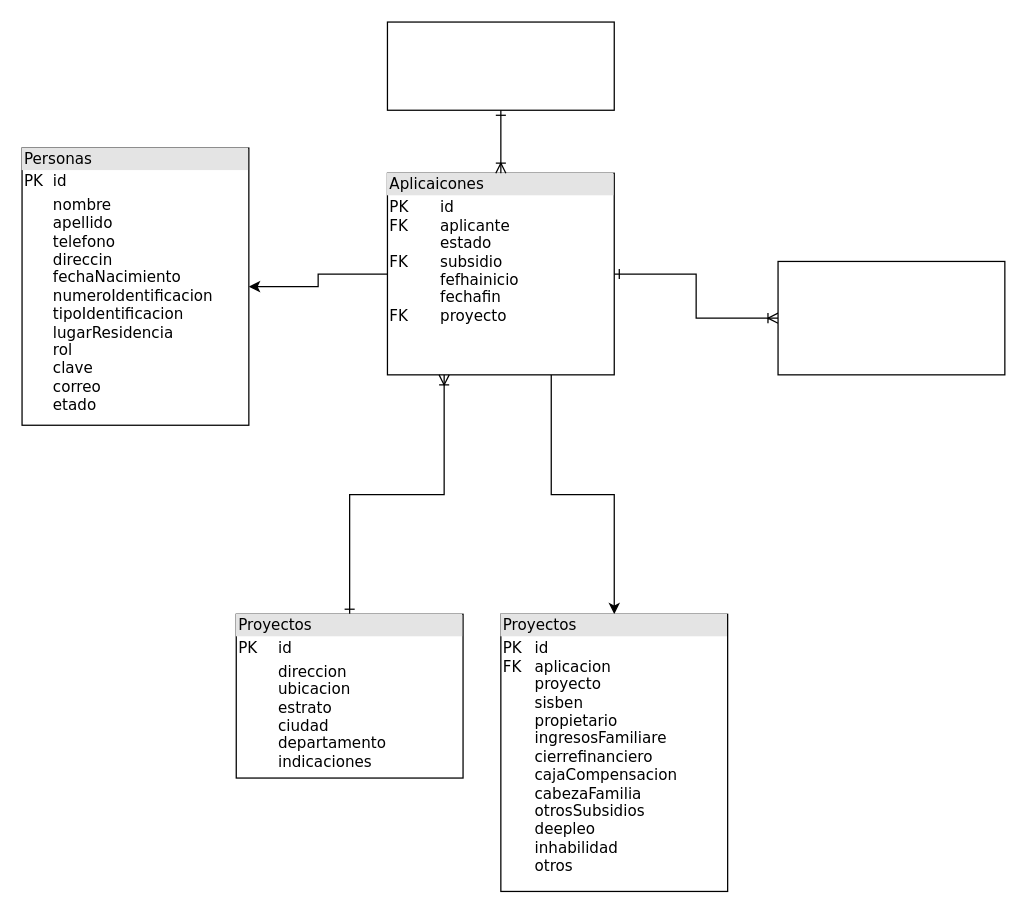
The diagram is 1027 pixels wide and 914 high, and some of its shapes have lost their labels. Each missing label, with the centre of its shape:
Desembolso PK id aplicacion fecha cifra: (x=891, y=317)
Subsidios PK id nombre: (x=500, y=65)
